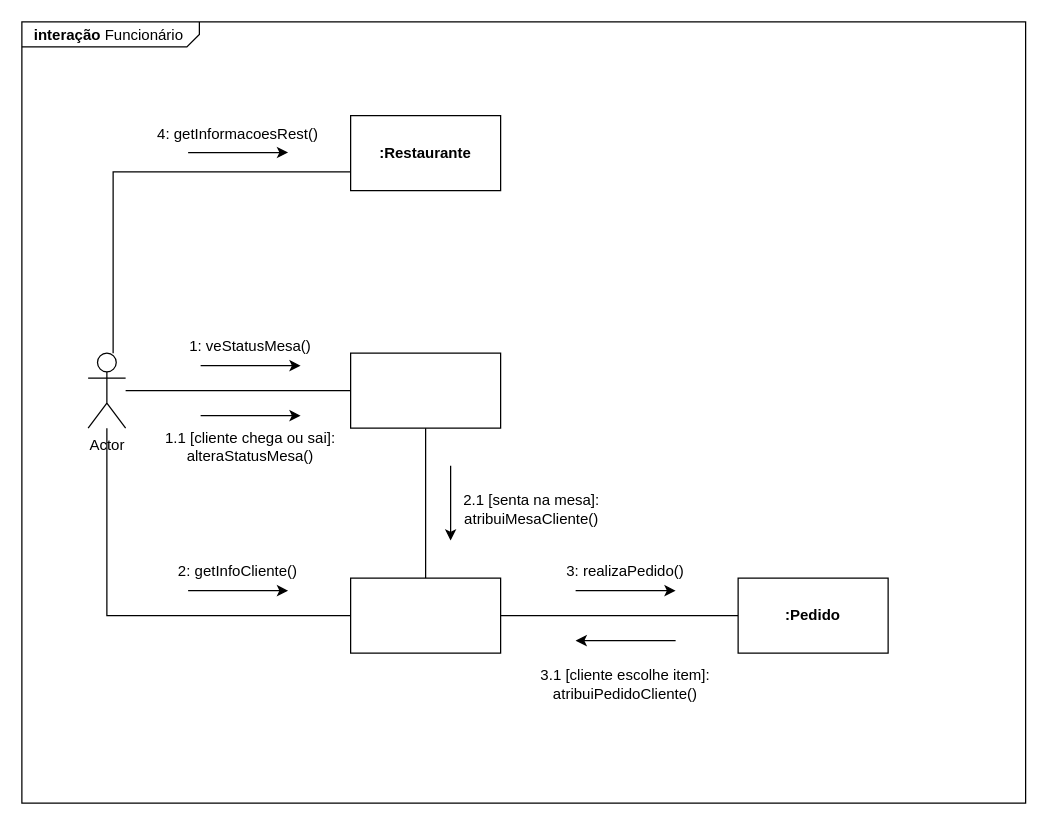
Some shapes in this 1048 by 825 pixel diagram are drawn without their labels. The shapes that lost their labels are listed below. From the top down, each one's box as (x1, y1, x2, y2) in pixels, then its label:
(349, 352, 501, 428): :Mesa
(349, 577, 501, 653): :Cliente
